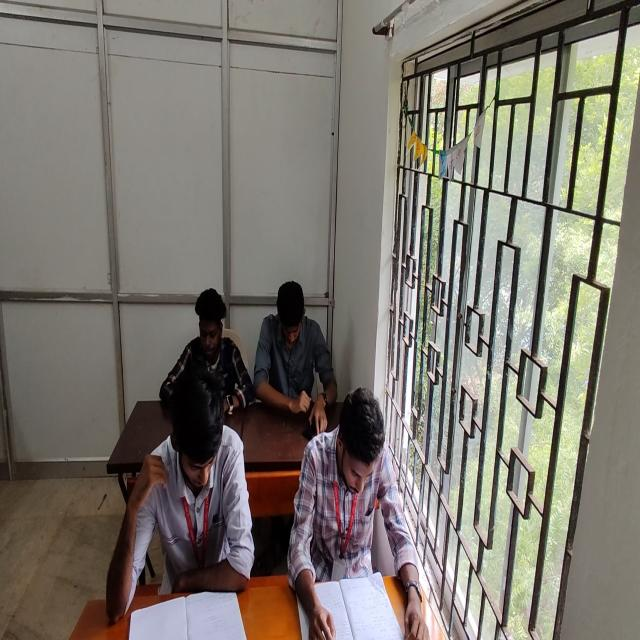reading: (108, 366, 255, 621), (287, 386, 411, 640)
using_mobile: (252, 279, 333, 435), (160, 286, 257, 415)
